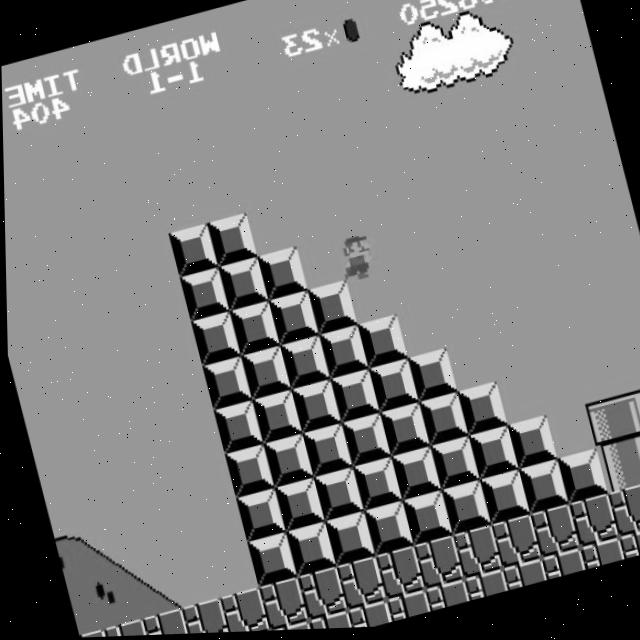11- little_mario: (328, 228, 382, 287)
14- pipe: (593, 442, 640, 497), (632, 432, 640, 487)
15- pipe_head: (582, 398, 633, 453), (621, 388, 640, 443)
17- undestructible_block: (488, 517, 539, 573), (449, 527, 500, 583), (410, 537, 461, 593), (254, 577, 305, 633), (565, 497, 616, 552), (527, 507, 578, 562), (371, 548, 422, 603), (332, 558, 383, 613), (294, 568, 345, 623), (215, 588, 266, 634), (604, 486, 640, 542), (177, 598, 227, 635), (421, 581, 466, 615), (383, 591, 428, 625), (576, 541, 622, 574), (537, 551, 583, 584), (499, 561, 544, 594), (460, 571, 505, 604), (139, 608, 189, 636), (344, 601, 389, 630), (100, 618, 150, 637), (305, 611, 350, 631), (615, 530, 640, 563), (266, 621, 311, 633)
9- hard_block: (554, 452, 605, 508), (505, 418, 556, 474), (515, 462, 566, 518), (466, 428, 517, 484), (427, 438, 478, 494), (366, 360, 417, 416), (388, 448, 439, 504), (327, 370, 378, 426), (288, 380, 339, 436), (227, 302, 278, 358), (249, 390, 300, 446), (283, 523, 334, 579), (189, 312, 240, 368), (244, 533, 295, 589), (405, 350, 456, 405), (438, 483, 489, 538), (399, 493, 450, 548), (305, 282, 356, 337), (349, 459, 400, 514), (360, 503, 411, 558), (255, 248, 306, 303), (266, 292, 317, 347), (277, 336, 328, 391), (299, 425, 350, 480), (310, 469, 361, 524), (322, 513, 373, 568), (216, 258, 267, 313), (238, 346, 289, 401), (260, 435, 311, 490), (177, 268, 228, 323), (199, 356, 250, 411), (211, 401, 262, 456), (222, 445, 273, 500), (233, 489, 284, 544), (477, 472, 527, 528), (454, 385, 505, 439), (416, 395, 467, 449), (355, 316, 406, 370), (377, 405, 428, 459), (316, 326, 367, 380), (338, 415, 389, 469), (205, 214, 256, 268), (272, 479, 322, 534), (167, 224, 217, 278)
